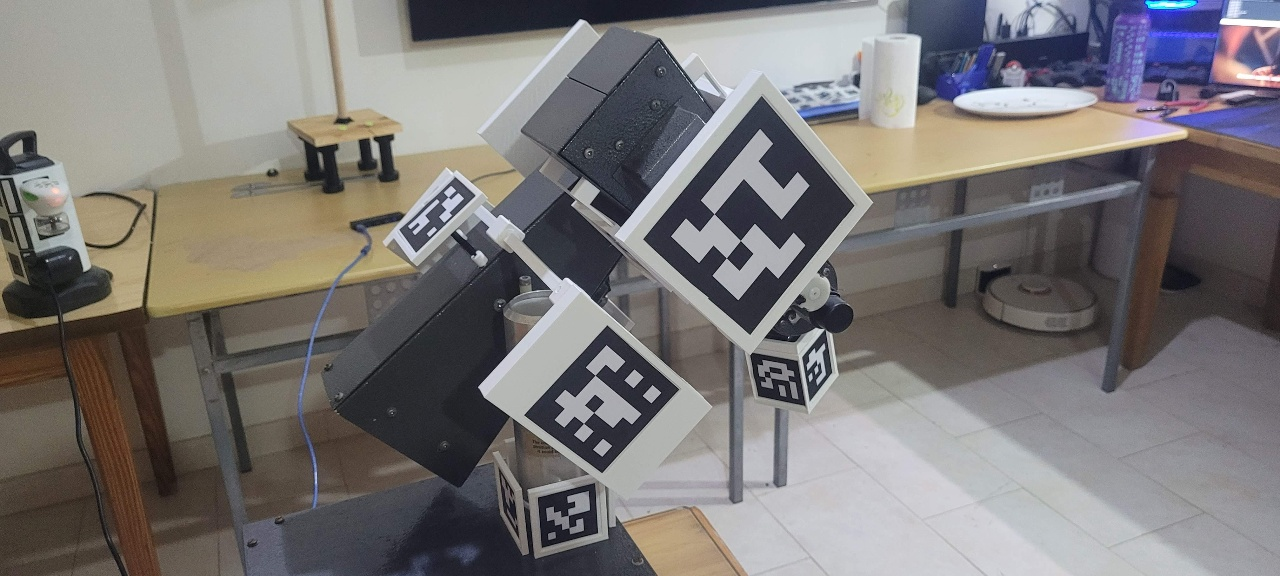Robot: (318, 17, 877, 559)
